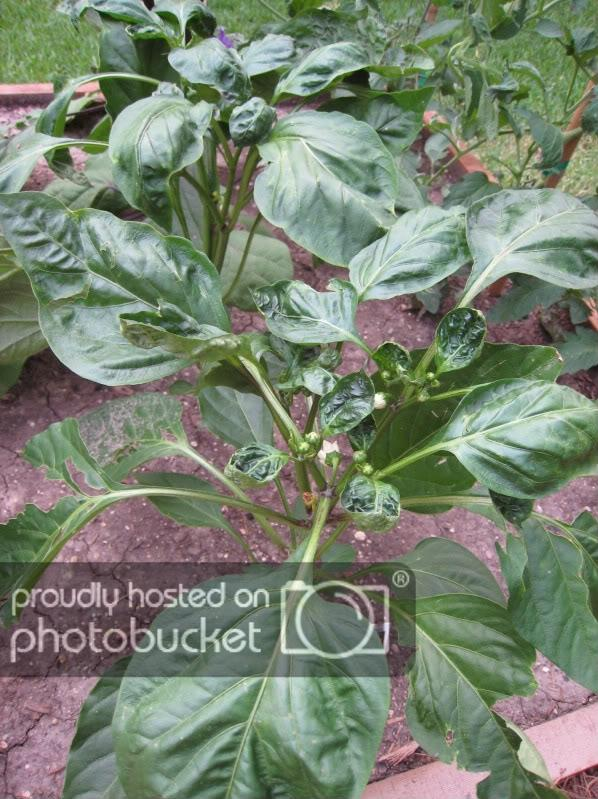Bell_pepper leaf spot: (115, 582, 405, 799), (2, 188, 237, 387), (392, 604, 539, 762), (252, 110, 399, 255), (449, 377, 598, 496), (462, 184, 598, 286), (349, 204, 469, 304)
